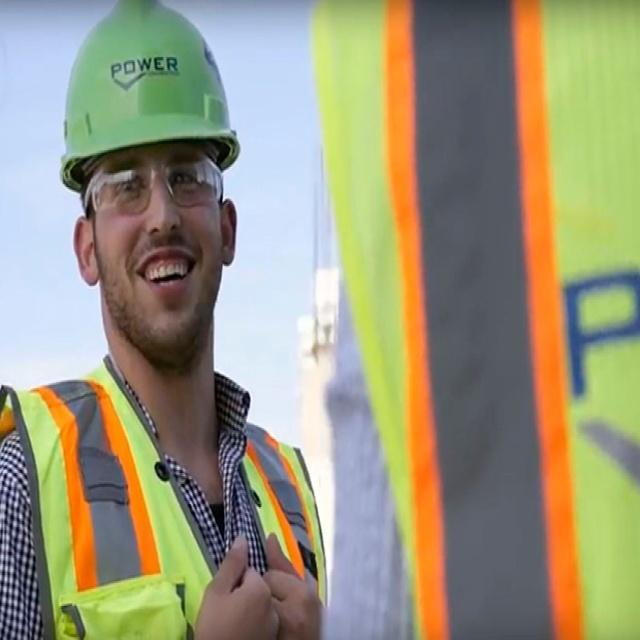helmet: (53, 2, 244, 466)
vest: (1, 475, 331, 640)
